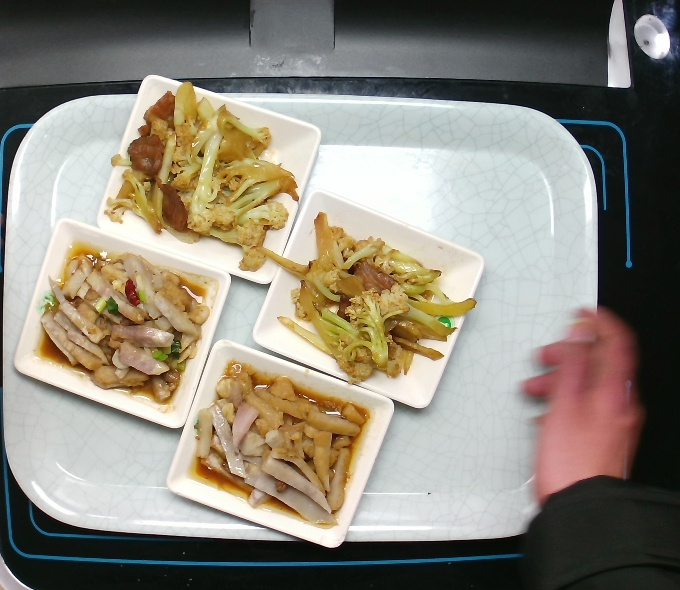wcq-QiuCaiChaoRou: (255, 209, 477, 387), (101, 78, 299, 273)
wcq-YuTou: (193, 360, 368, 527), (36, 245, 212, 408)
